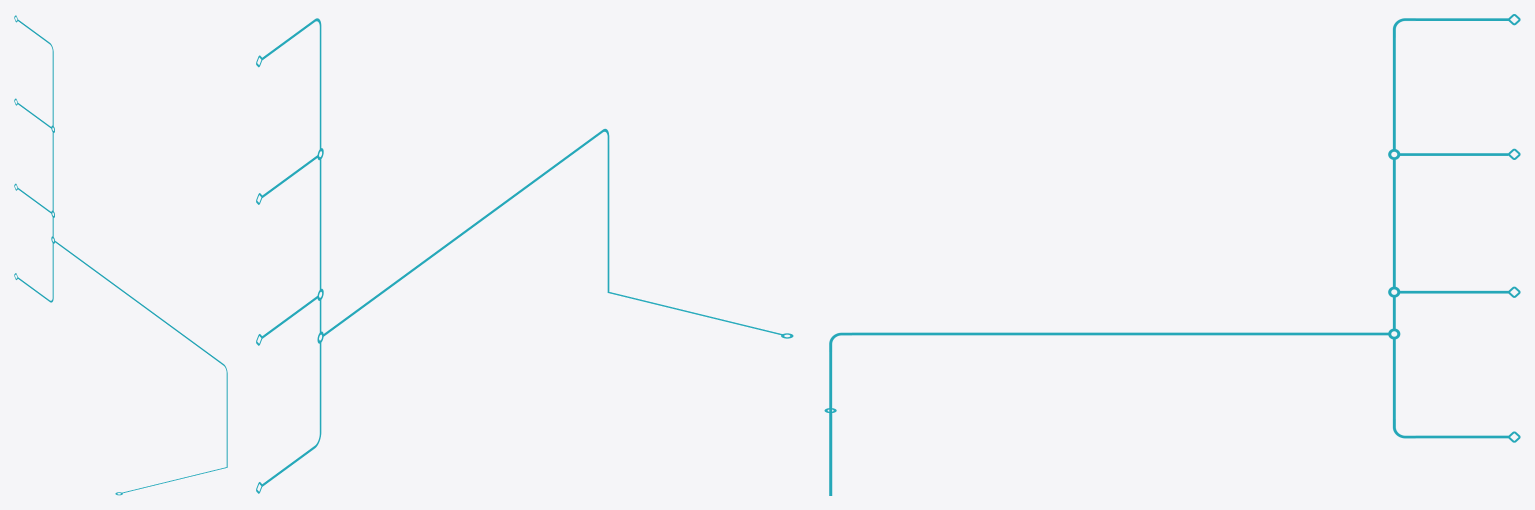
File: 10_1_cl_inactive.glb
3 views of the same model, side by side, from view 1: azimuth 30°, elevation 25°; view 2: azimuth 150°, elevation 25°; view 3: azimuth 270°, elevation 25° (orthographic). The views are drawn at different scales.
Parts seen in each view (by area): view 1: 10_1_cl_inactive; view 2: 10_1_cl_inactive; view 3: 10_1_cl_inactive.
Part boxes in pixels (x1,y1,x2,y2): 10_1_cl_inactive: (14,15,227,495); 10_1_cl_inactive: (256,18,793,493); 10_1_cl_inactive: (824,14,1520,495).
Bounding box in the file's own units: 5.51 × 14.07 × 18.42.
1 material, 1 textured.
